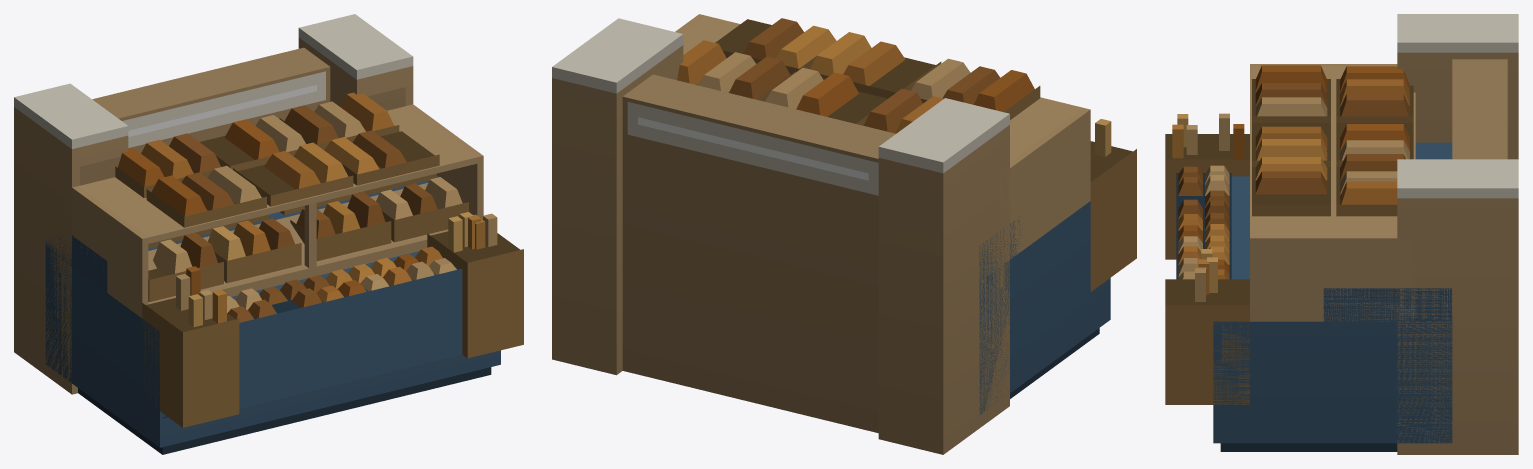
Rendered from shop.bakery_stand.blue.glb.
3 views of the same model, side by side, from view 1: azimuth 30°, elevation 25°; view 2: azimuth 150°, elevation 25°; view 3: azimuth 270°, elevation 25° (orthographic). The views are drawn at different scales.
Visible parts, largest first — view 1: shop_bakery_stand_blue; view 2: shop_bakery_stand_blue; view 3: shop_bakery_stand_blue.
Part boxes in pixels (x1,y1,x2,y2): shop_bakery_stand_blue: (14,14,523,454); shop_bakery_stand_blue: (552,14,1136,454); shop_bakery_stand_blue: (1165,14,1518,454).
Size of what is drawn, in the model's own units: 2.24 by 1.6 by 1.92.
